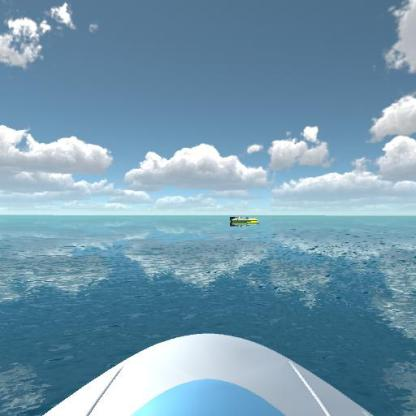usv2: (224, 209, 262, 230)
